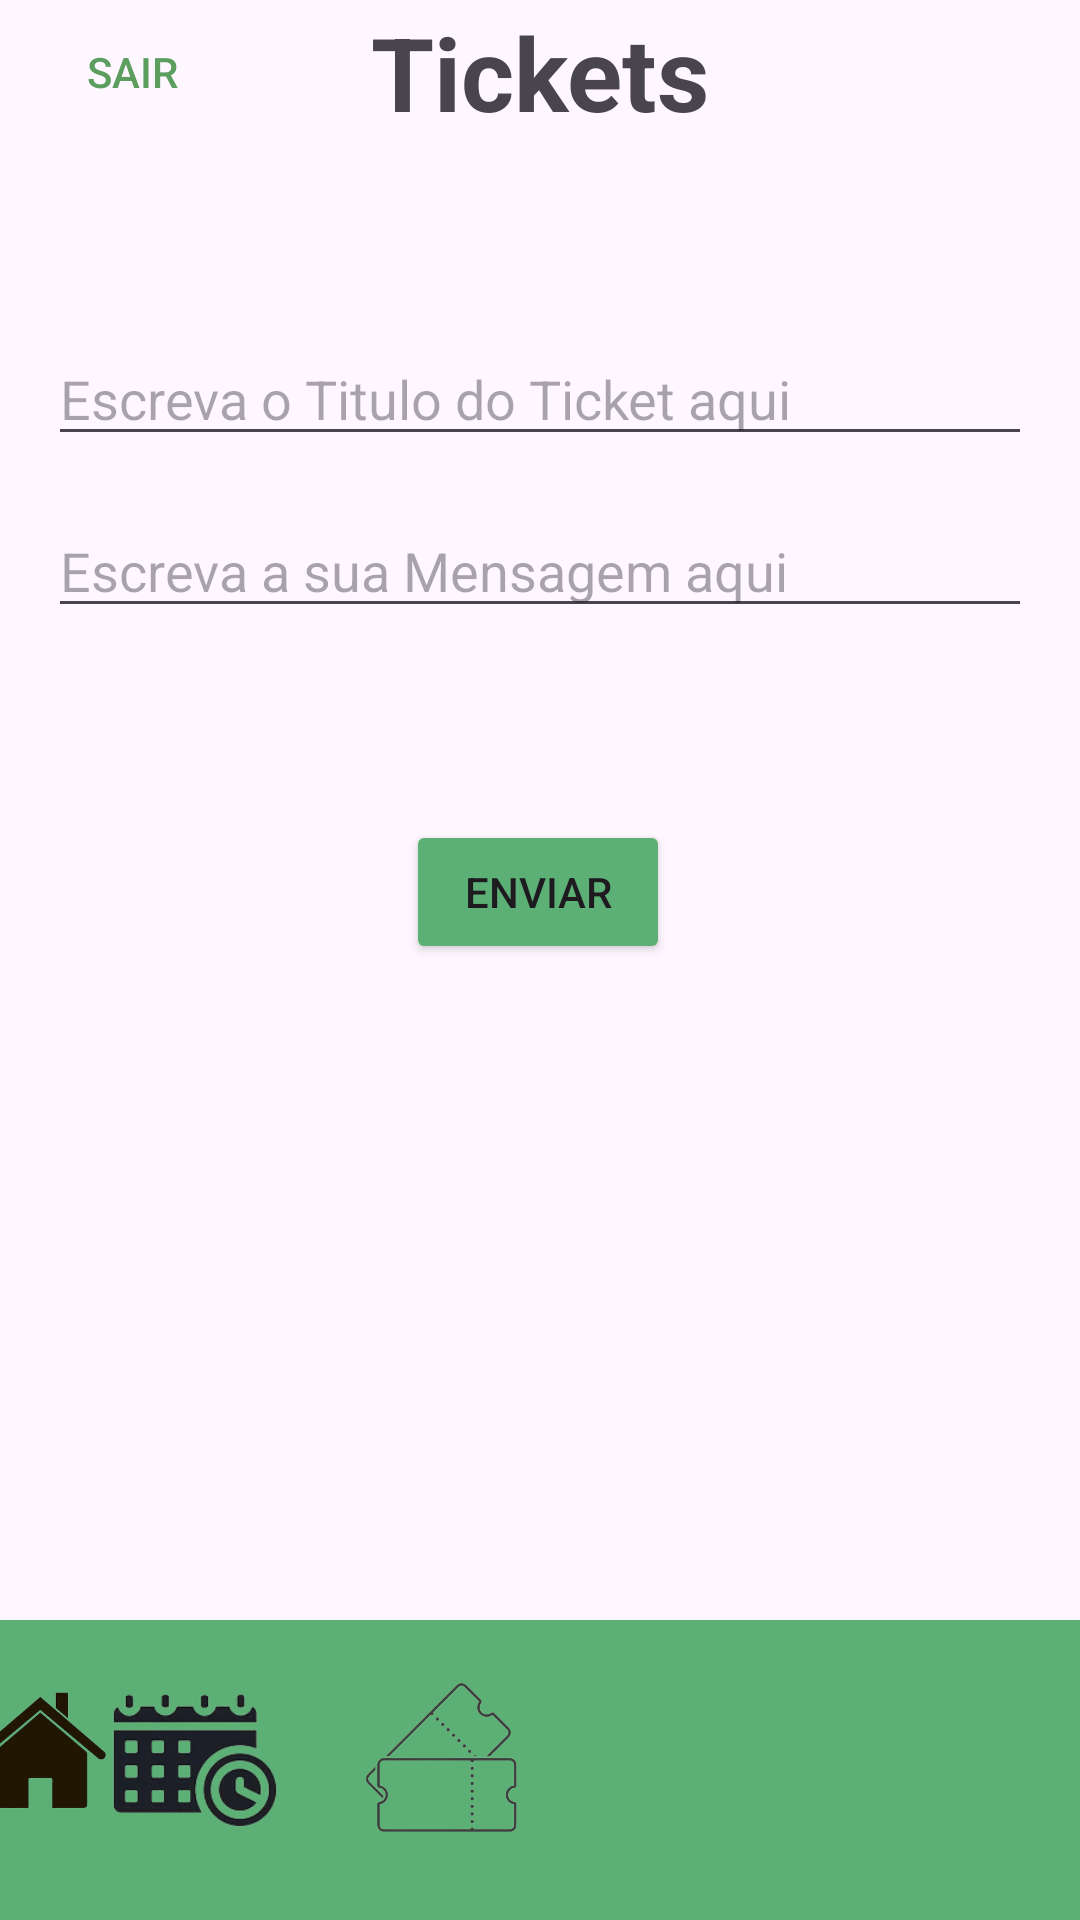

Icons on this 1080 x 1920 Android screen, each with the point to tap as (x=x, y=y):
reserva: (x=195, y=1760)
ticket: (x=441, y=1757)
